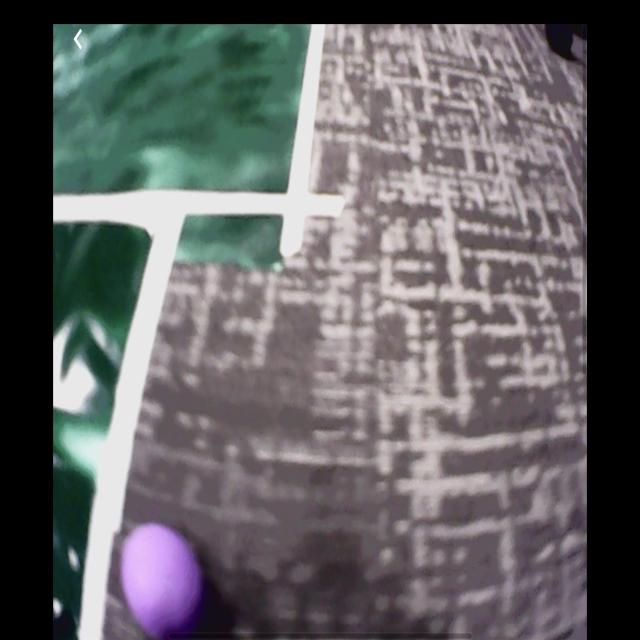ball: (121, 526, 198, 640)
